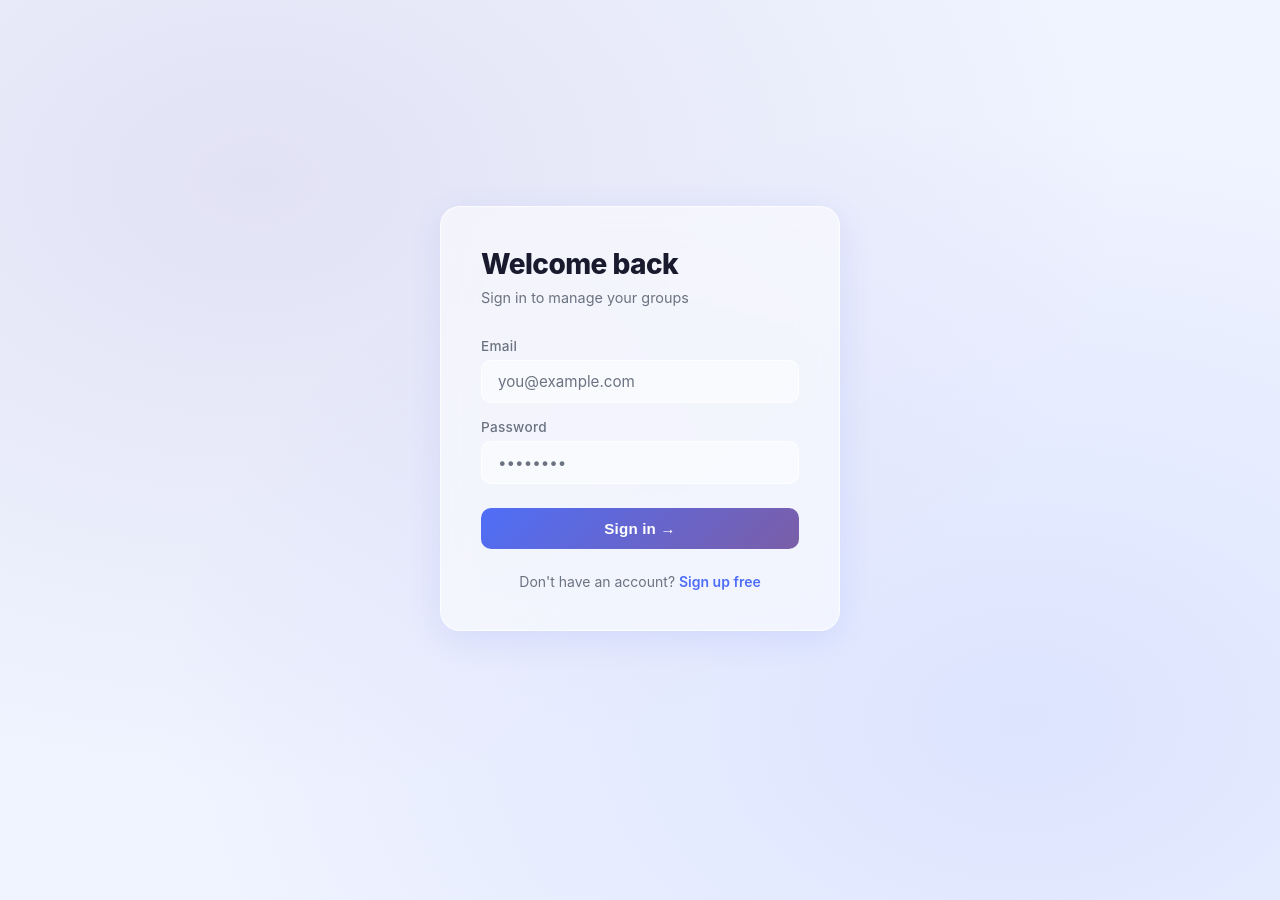
it: LoginPage › shows an error and does not navigate on failed login
Type "test@test.com" into the field with placeholder "you@example.com" at (640,381), box x1=481 y1=360 x2=799 y2=402
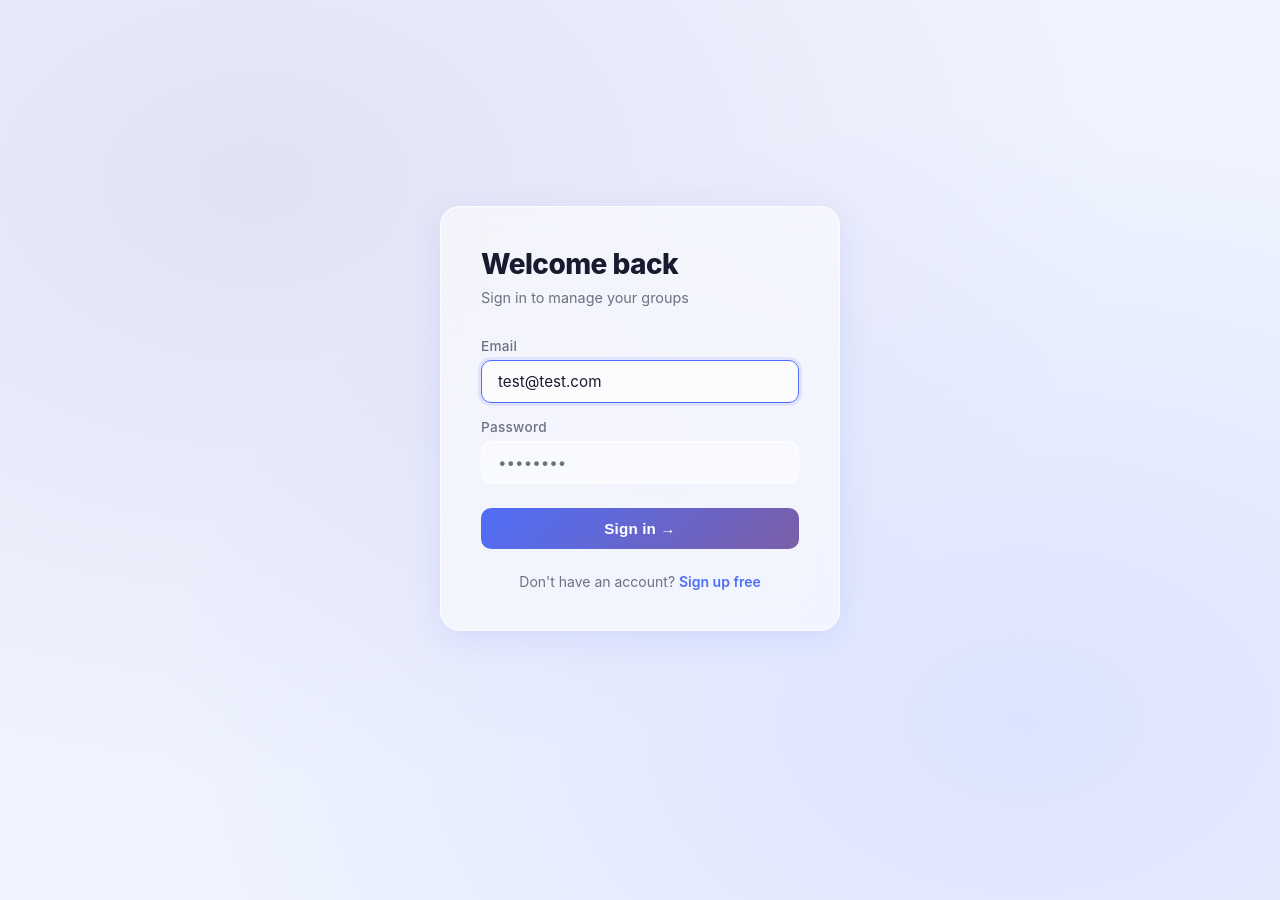
Type "wrongpass" into the password field with placeholder "••••••••" at (640,462), box x1=481 y1=440 x2=799 y2=484
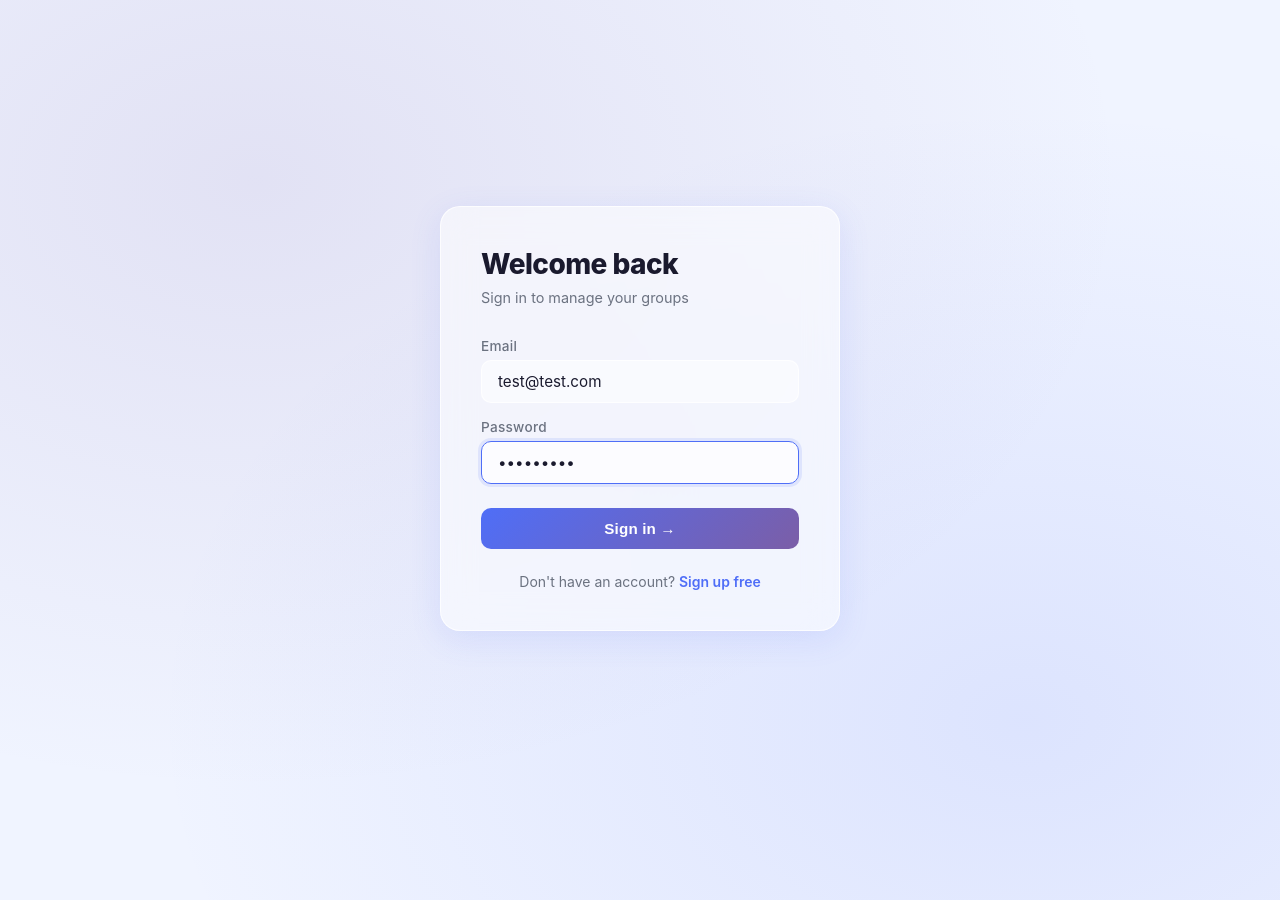
Click the button "Sign in →" at (640,528), box x1=481 y1=508 x2=799 y2=548
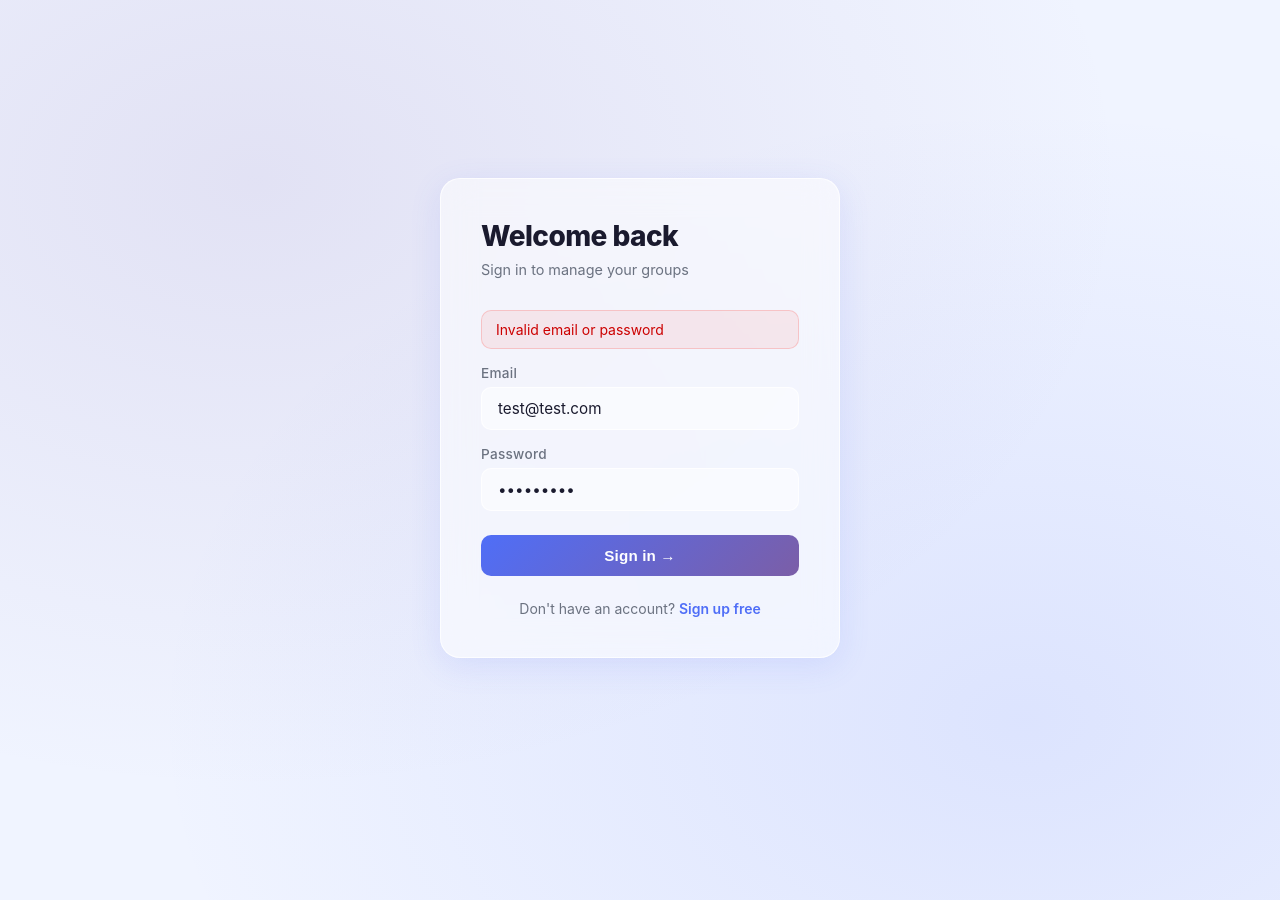
Result: the text "Invalid email or password" is shown at x1=481 y1=310 x2=799 y2=349
